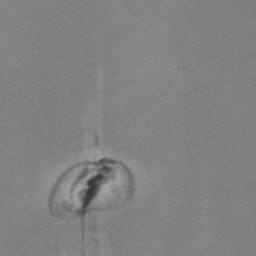Slag inclusion: (46, 156, 136, 243)
